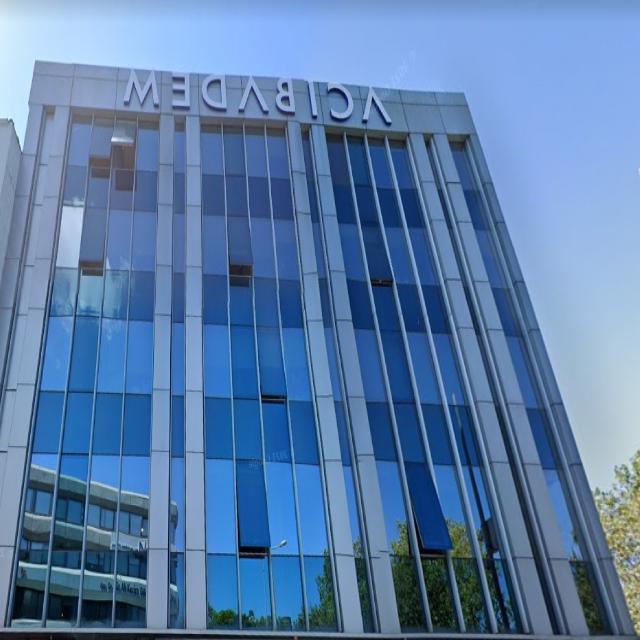Building: (0, 60, 637, 640)
